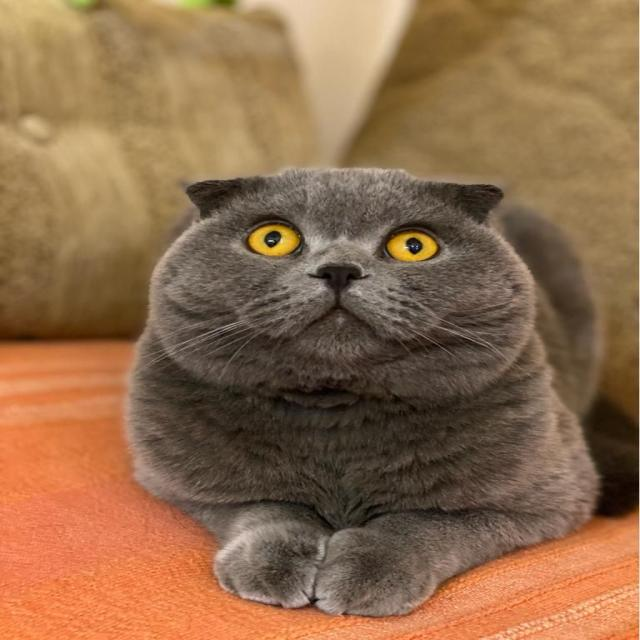british shorthair: (127, 168, 637, 616)
